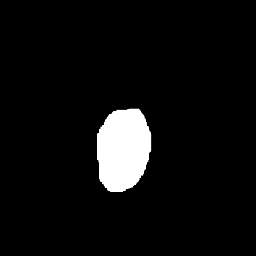mass: (97, 106, 147, 191)
